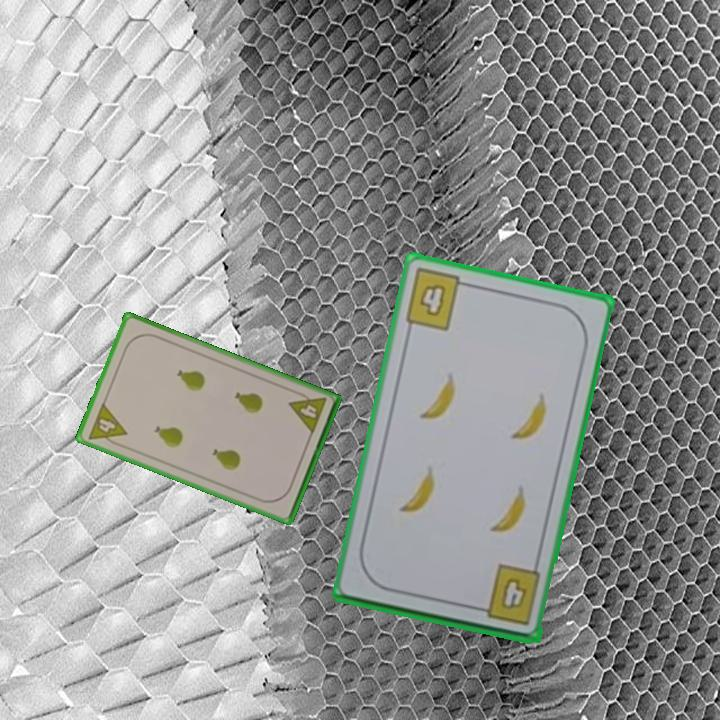4b: (401, 264, 474, 334), (471, 561, 543, 628)
4p: (84, 399, 130, 450), (285, 387, 329, 437)
